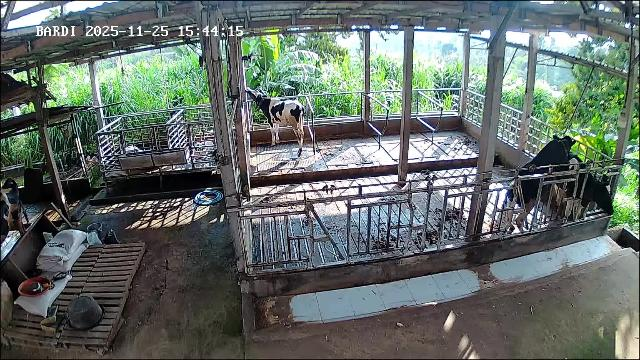mounting: (504, 132, 577, 230)
